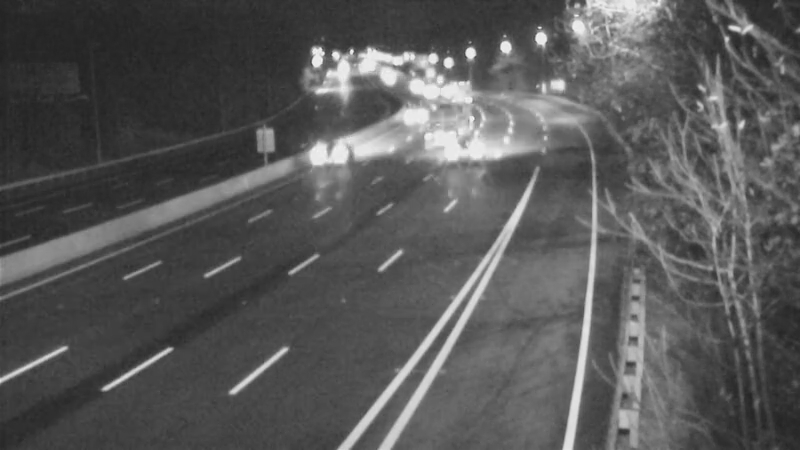vehicle: (426, 114, 506, 194), (388, 60, 438, 110), (403, 67, 453, 117), (437, 66, 487, 116), (415, 102, 465, 152), (391, 92, 441, 142), (301, 124, 351, 174)
